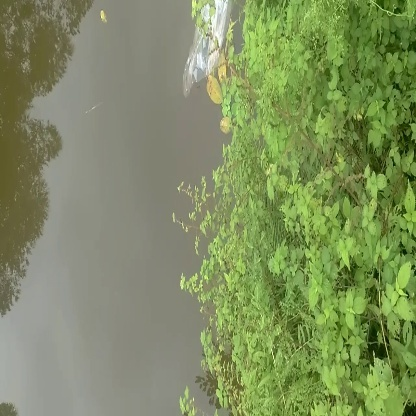plastic-bag: (186, 4, 233, 98)
